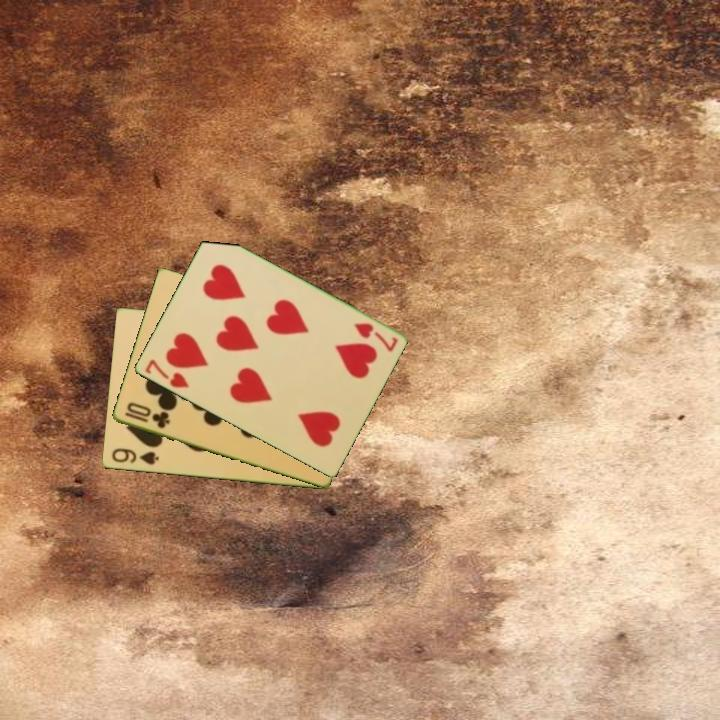10c: (121, 399, 173, 432)
7h: (350, 319, 401, 355), (141, 356, 192, 391)
9s: (108, 445, 161, 468)
